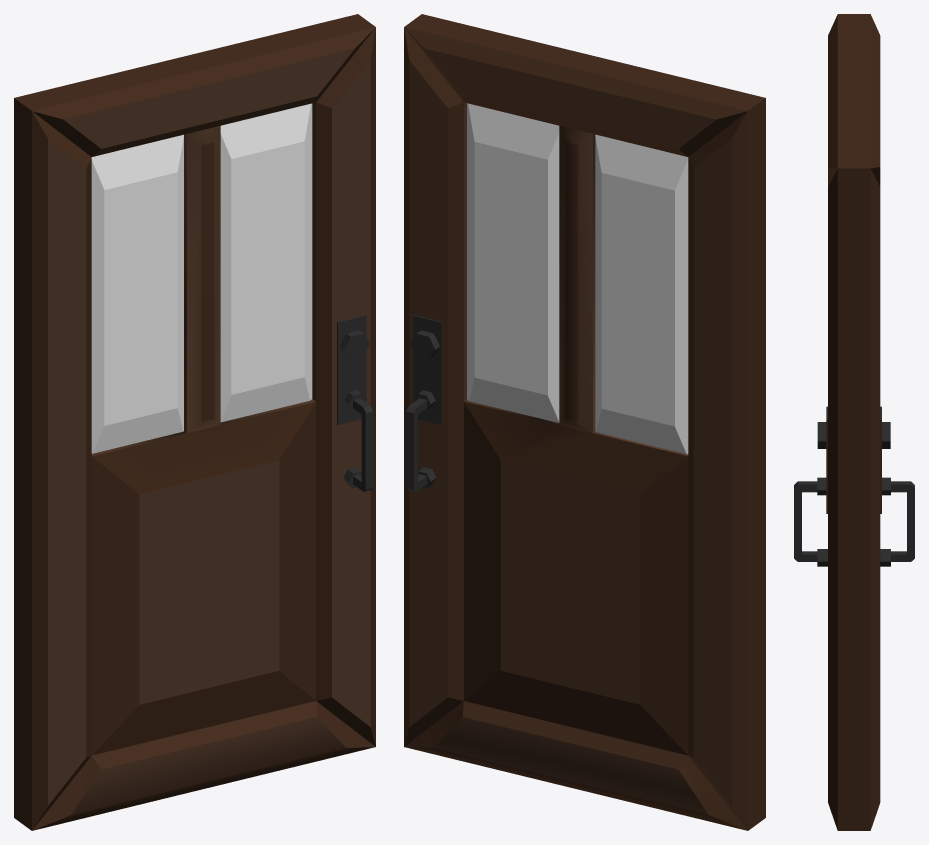
3 views of the same model, side by side, from view 1: azimuth 30°, elevation 25°; view 2: azimuth 150°, elevation 25°; view 3: azimuth 270°, elevation 25° (orthographic). The views are drawn at different scales.
Visible parts, largest first — view 1: Door2, Glass16, Glass2; view 2: Door2, Glass2, Glass16; view 3: Door2.
Boxes of the visible parts, x1,y1,x2,y2 form: Door2: (14, 14, 375, 830); Glass16: (220, 103, 312, 422); Glass2: (91, 134, 183, 453); Door2: (404, 14, 765, 830); Glass2: (595, 134, 688, 454); Glass16: (467, 103, 559, 422); Door2: (794, 14, 914, 830).
Size of the model in its own units: 162 by 325 by 53.79.
Materials: 1 (1 with a texture image).
